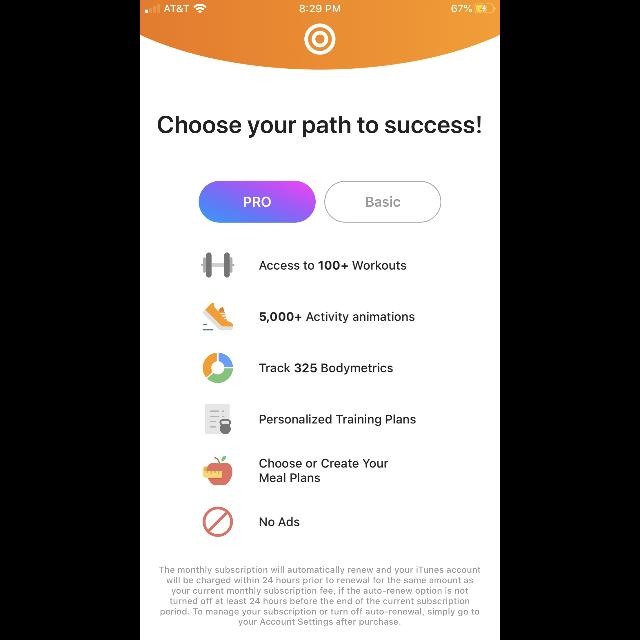image: (304, 23, 336, 54), (202, 353, 234, 383), (202, 507, 234, 537), (203, 455, 233, 485), (203, 303, 233, 331), (202, 252, 234, 278), (205, 404, 231, 434)
text: (160, 566, 480, 626), (158, 115, 480, 138), (260, 459, 388, 483), (260, 414, 416, 426), (260, 312, 414, 324), (259, 260, 406, 270), (259, 364, 393, 374), (260, 518, 300, 526)
textbutton: (198, 181, 316, 223), (324, 181, 442, 223)
uppertaskbar: (140, 0, 500, 14)
